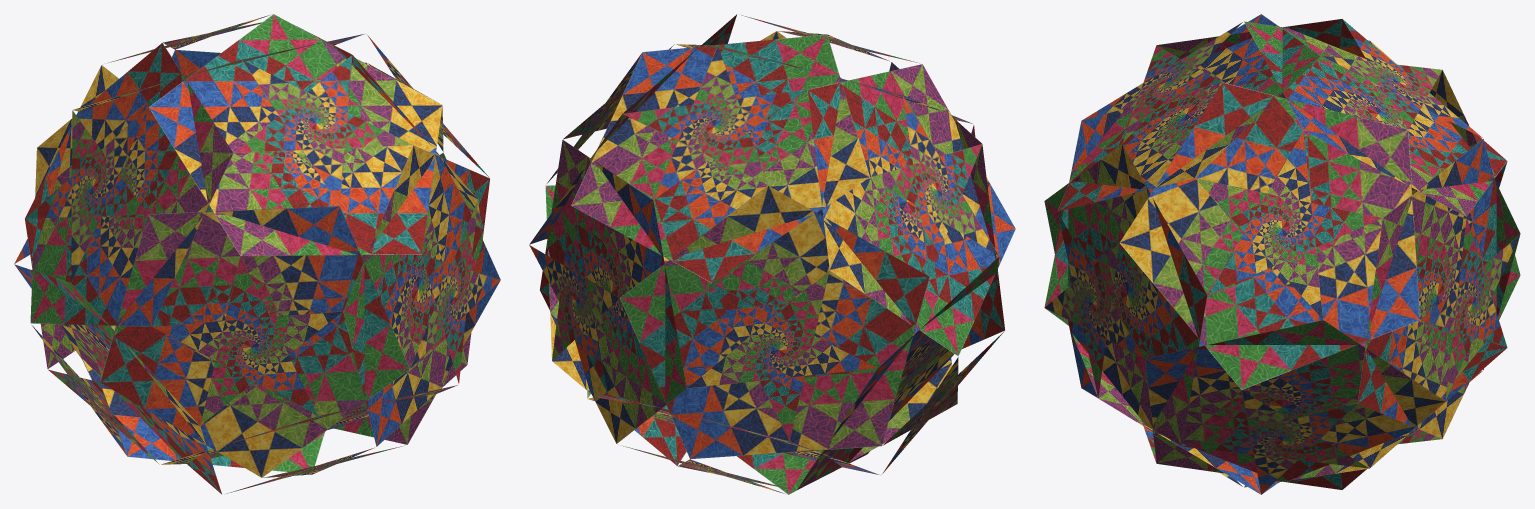
Rendered from SnubDodecadodecahedron6.obj.
The picture shows the model from 3 angles, left to right: view 1: azimuth 30°, elevation 25°; view 2: azimuth 150°, elevation 25°; view 3: azimuth 270°, elevation 25°; orthographic projection.
Size of the model in its own units: 2.48 by 2.48 by 2.48.
Materials: 1 (1 with a texture image).
